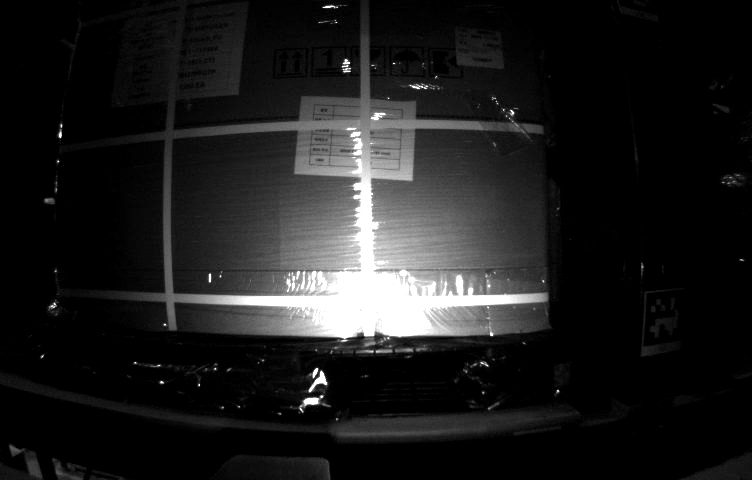True Barcode: (457, 28, 506, 71)
